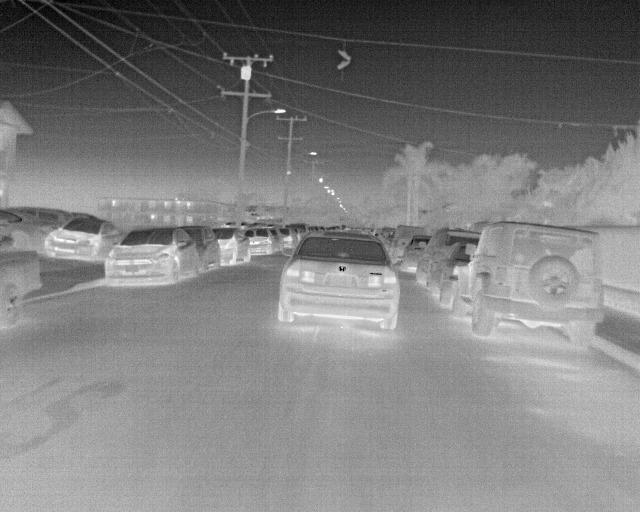car: (438, 217, 610, 347), (273, 234, 402, 331), (100, 228, 201, 287), (414, 227, 481, 296), (38, 219, 122, 264), (422, 239, 478, 306), (0, 249, 45, 329), (2, 207, 57, 254), (176, 225, 223, 269), (214, 225, 252, 269), (389, 224, 425, 266), (396, 232, 430, 274), (246, 225, 282, 255), (277, 226, 299, 250), (286, 223, 308, 243)
